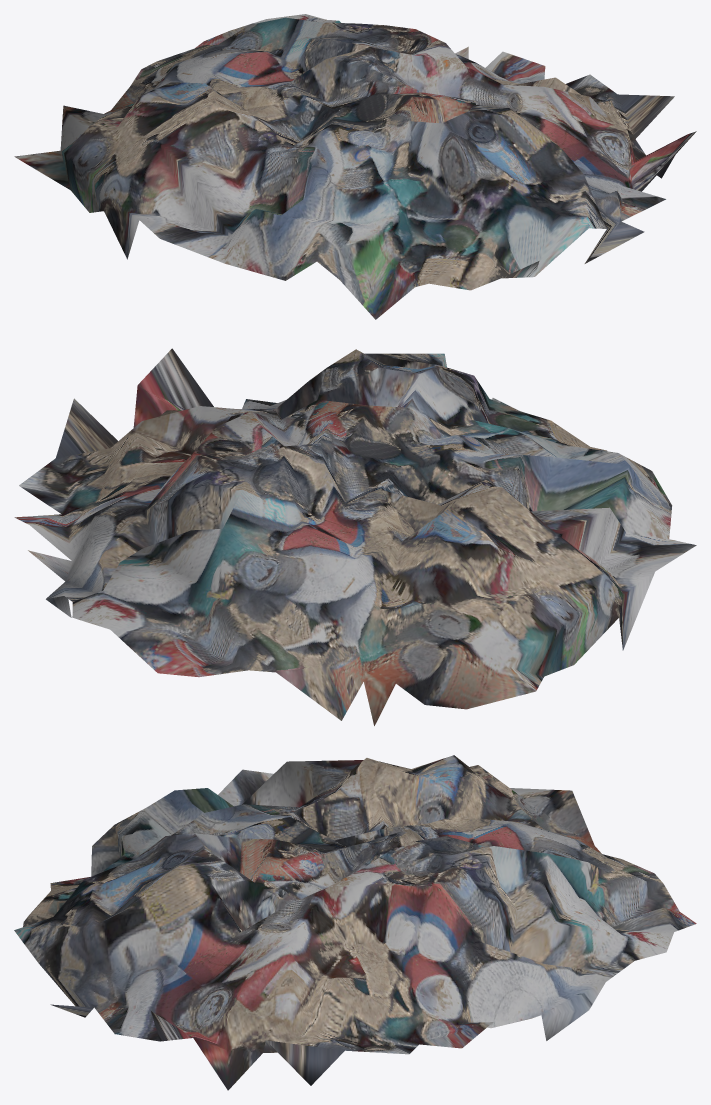
File: SM_Trash_Pile_01.fbx
3 renders of one model, top to bottom at view 1: azimuth 30°, elevation 25°; view 2: azimuth 150°, elevation 25°; view 3: azimuth 270°, elevation 25°, orthographic. The views are drawn at different scales.
Parts seen in each view (by area): view 1: SM_Trash_Pile_01; view 2: SM_Trash_Pile_01; view 3: SM_Trash_Pile_01.
Boxes of the visible parts, x1,y1,x2,y2 form: SM_Trash_Pile_01: (14,14,696,319); SM_Trash_Pile_01: (14,348,696,725); SM_Trash_Pile_01: (14,755,696,1090).
Size of the model in its own units: 5.14 by 1.27 by 5.31.
